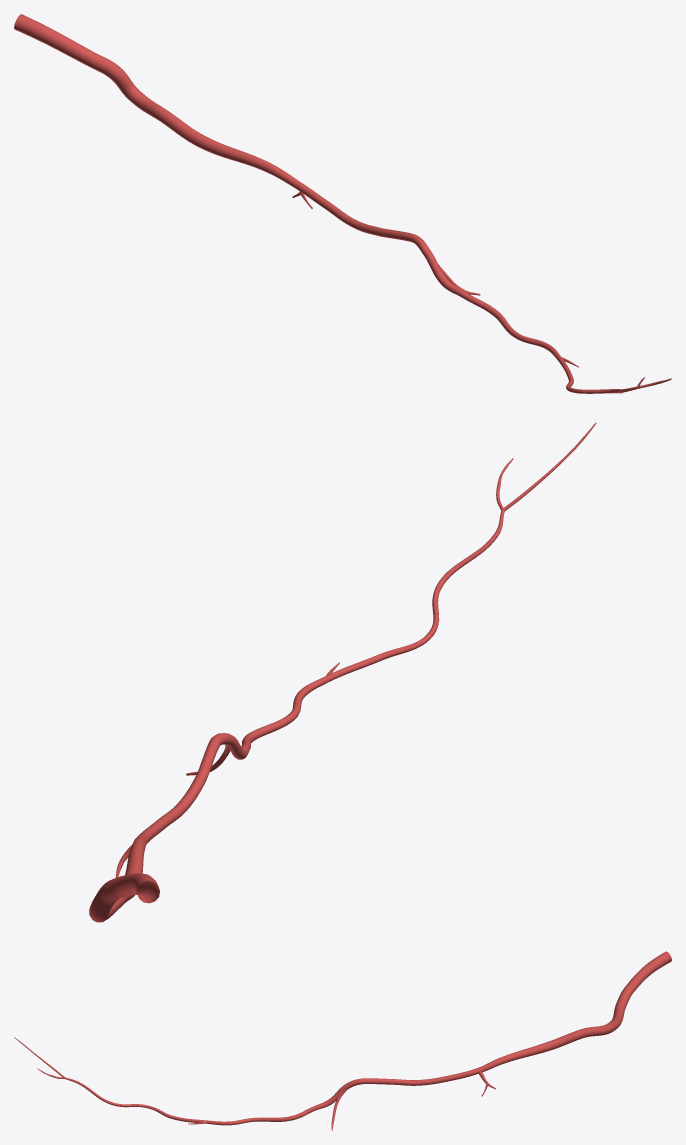
The picture shows the model from 3 angles, top to bottom: view 1: azimuth 30°, elevation 25°; view 2: azimuth 150°, elevation 25°; view 3: azimuth 270°, elevation 25°; orthographic projection. The views are drawn at different scales.
Visible parts, largest first — view 1: 右侧内眦动脉; view 2: 右侧内眦动脉; view 3: 右侧内眦动脉.
Boxes of the visible parts, x1=… form: 右侧内眦动脉: x1=14, y1=14, x2=671, y2=393; 右侧内眦动脉: x1=89, y1=422, x2=596, y2=922; 右侧内眦动脉: x1=14, y1=951, x2=671, y2=1130.
Size of the model in its own units: 0.0448 by 0.0297 by 0.1665.
